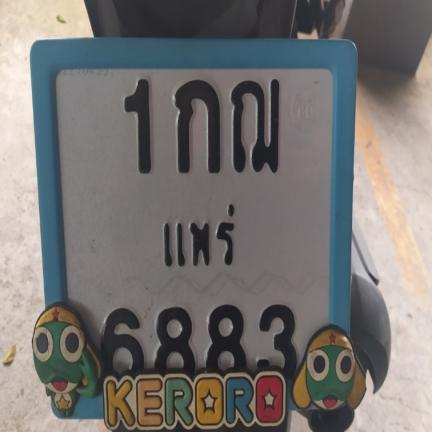1: (120, 73, 156, 177)
3: (256, 302, 300, 376)
6: (96, 303, 144, 378)
8: (151, 305, 200, 377), (204, 302, 249, 372)
A01: (163, 72, 223, 177)
A12: (228, 72, 283, 178)
PRE: (153, 192, 241, 269)
